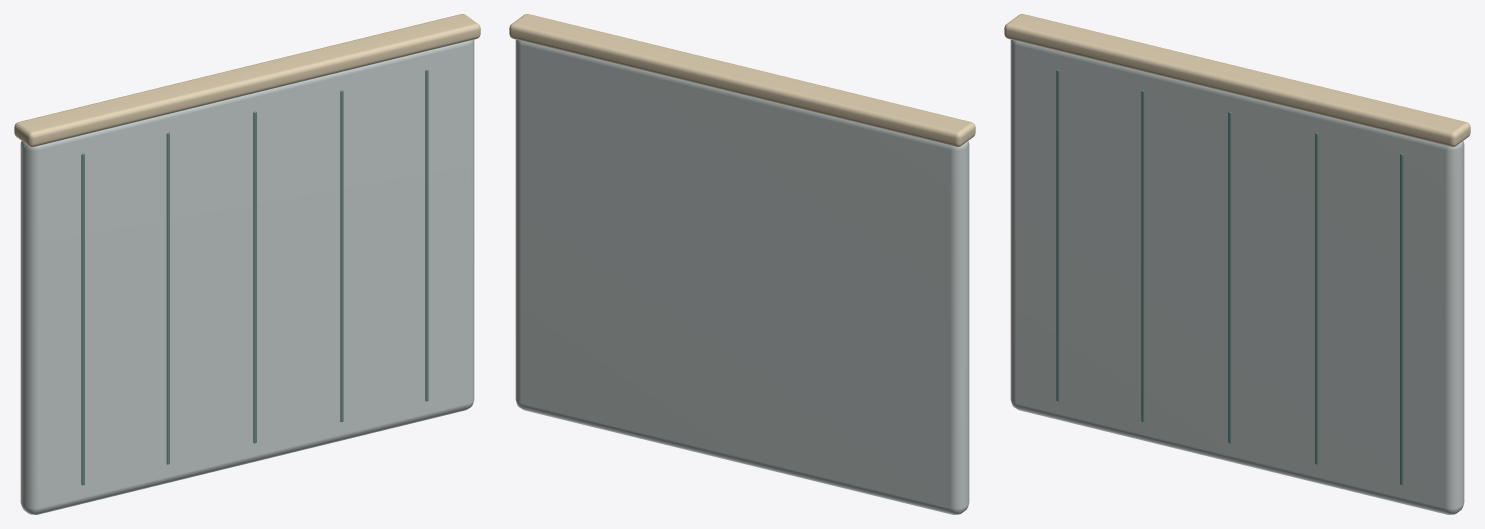
Rendered from door.fbx.
3 views of the same model, side by side, from view 1: azimuth 30°, elevation 25°; view 2: azimuth 150°, elevation 25°; view 3: azimuth 330°, elevation 25° (orthographic).
Visible parts, largest first — view 1: door; view 2: door; view 3: door.
Boxes of the visible parts, box(x1,y1,x2,y2) form: door: box(14, 14, 480, 514); door: box(509, 14, 975, 514); door: box(1004, 14, 1470, 514).
Size of the model in its own units: 250 by 205 by 17.
